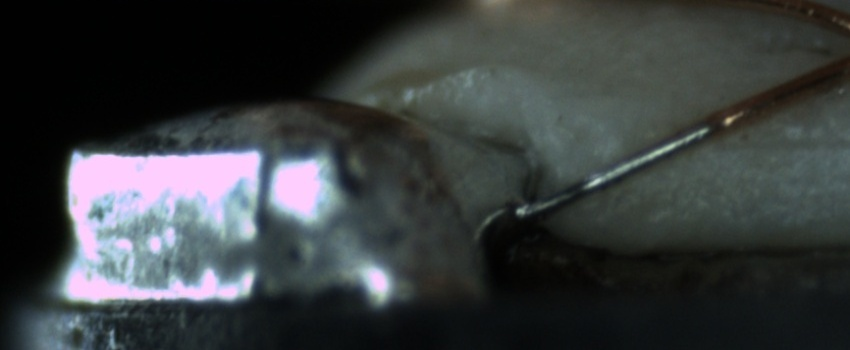DL: (690, 111, 849, 175)
TS: (515, 121, 712, 216)
